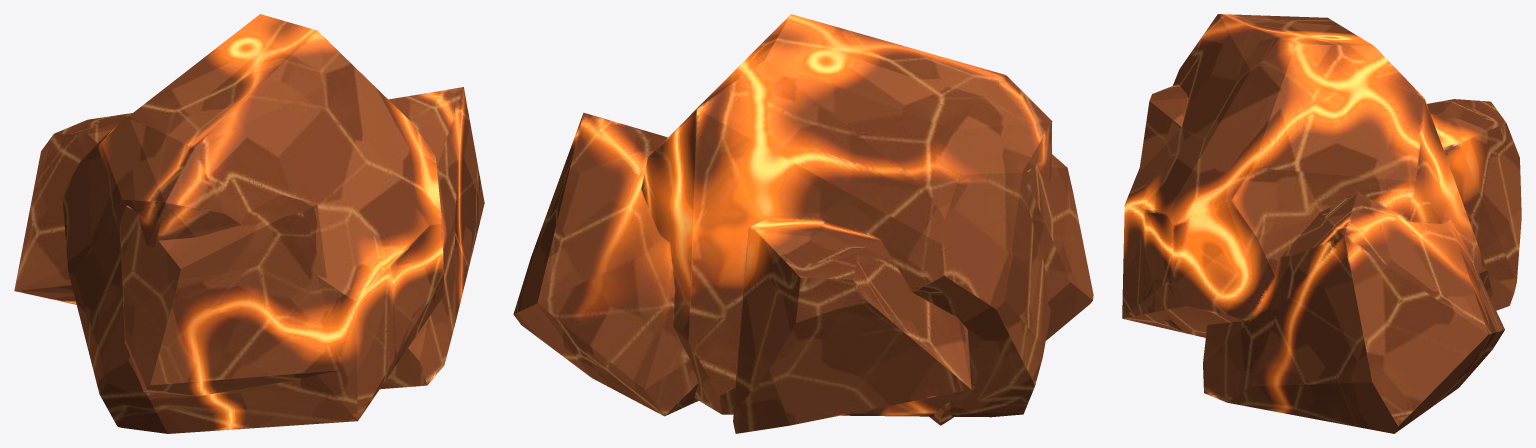
Rendered from res_copper_ore.glb.
3 views of the same model, side by side, from view 1: azimuth 30°, elevation 25°; view 2: azimuth 150°, elevation 25°; view 3: azimuth 270°, elevation 25° (orthographic). The views are drawn at different scales.
Parts seen in each view (by area): view 1: res_copper_ore; view 2: res_copper_ore; view 3: res_copper_ore.
Part boxes in pixels (<box>): res_copper_ore: <box>14,14,484,433</box>; res_copper_ore: <box>513,14,1093,433</box>; res_copper_ore: <box>1122,14,1521,433</box>.
Bounding box in the file's own units: 0.86 × 0.6192 × 0.6961.
Materials: 1 (1 with a texture image).
